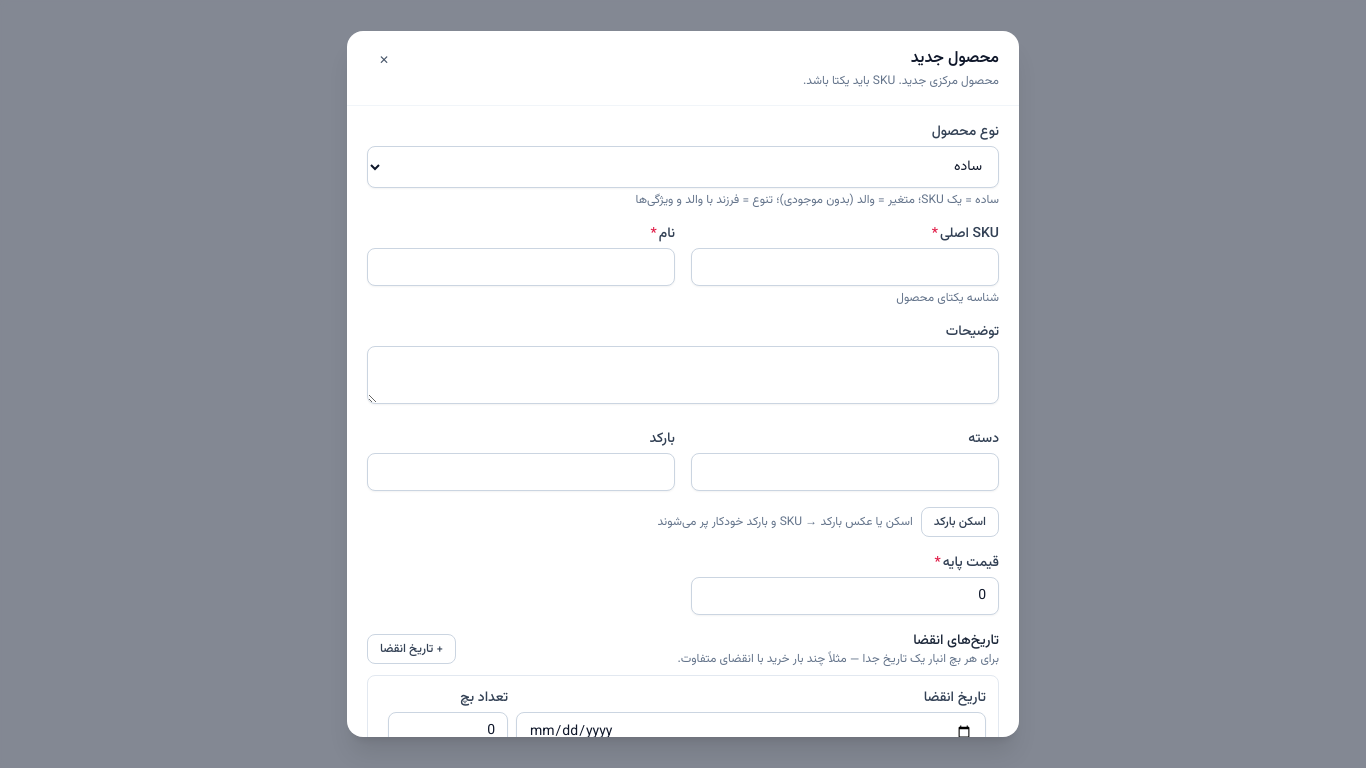
Test: ProductFormModal variable products › shows parent picker and variation attributes for variation type
This screenshot has width=1366, height=768.
Select "تنوع (فرزند)" in the dropdown labelled "نوع محصول" at {"x": 683, "y": 167}, box x1=367 y1=146 x2=999 y2=188
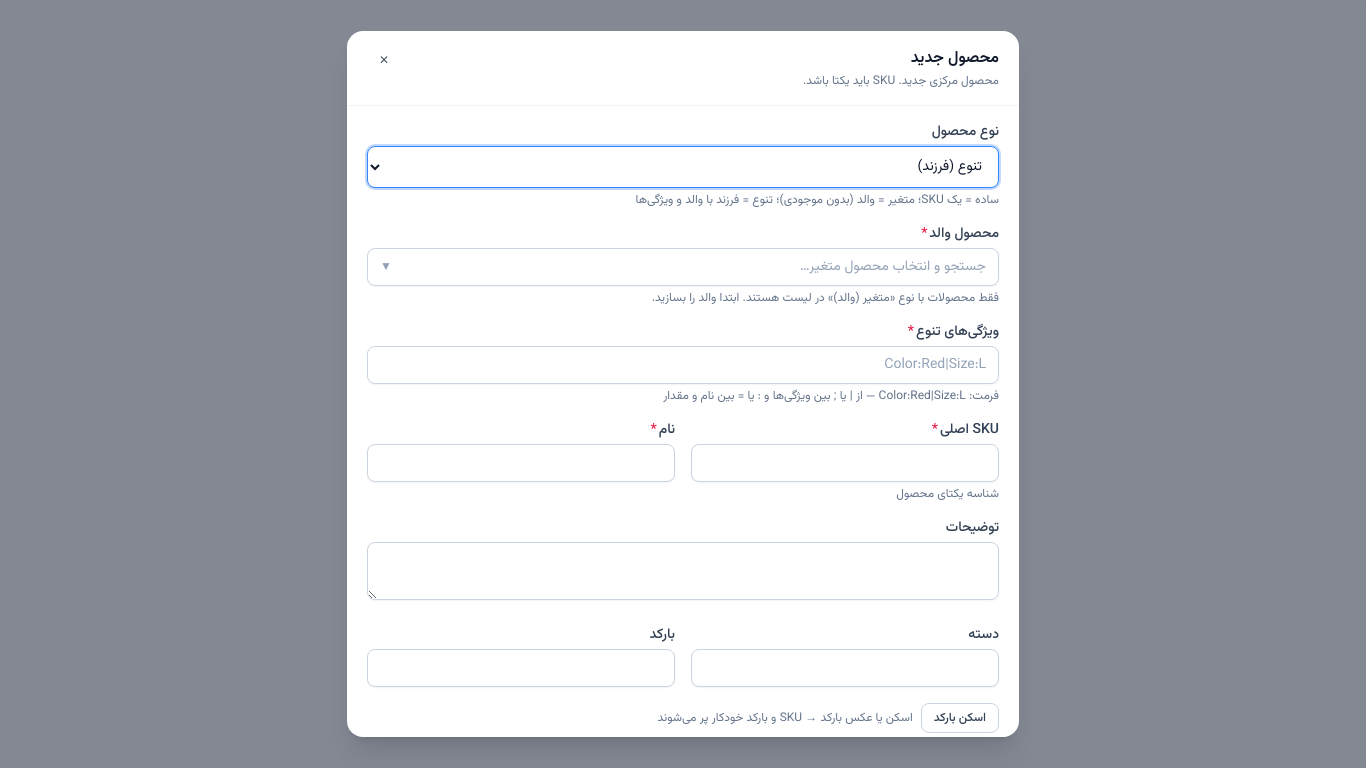
Now the text "محصول والد*" is shown, box x1=921 y1=223 x2=999 y2=245
Now the field labelled "ویژگی‌های تنوع*" is shown, box x1=367 y1=346 x2=999 y2=384
